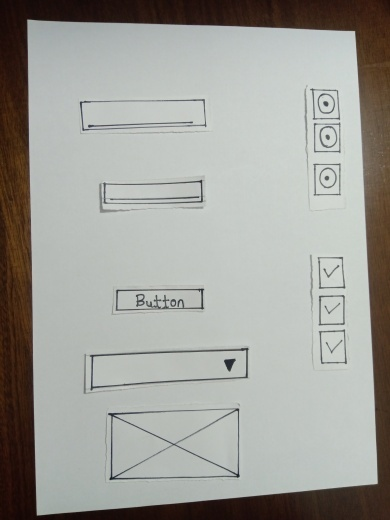button: (114, 289, 206, 312)
checkbox: (315, 254, 347, 289), (316, 330, 348, 365), (314, 293, 346, 328)
dropdown: (87, 349, 250, 387)
img: (108, 405, 240, 481)
radio: (310, 87, 342, 118), (314, 164, 346, 195), (313, 124, 345, 155)
text: (82, 101, 214, 131), (99, 179, 203, 208)
